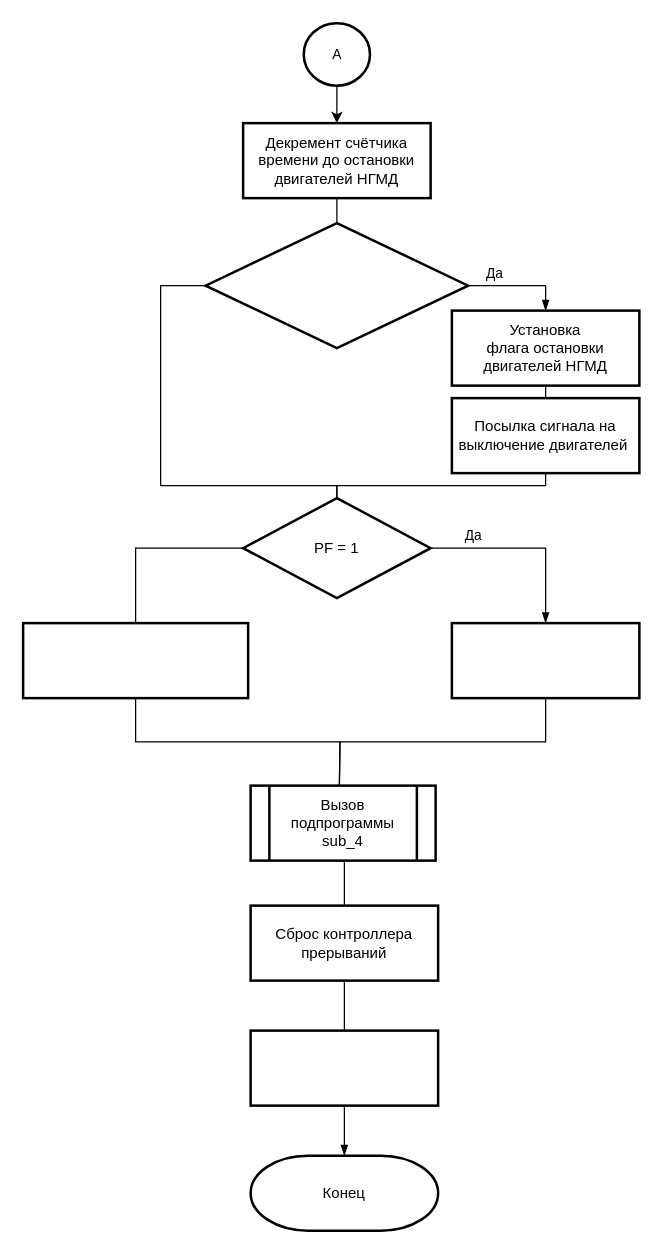
The diagram is 661 pixels wide and 1253 high, and some of its shapes have lost their labels. Each missing label, with the centre of its shape:
Восстановление значений регистров ds, es, ax, dx: point 344,1067
Вызов 1Ch: point 545,660
Косвенный вызов 1Ch: point 135,660
Счётчик времени до остановки двигателей НГМД = 0: point 336,285
